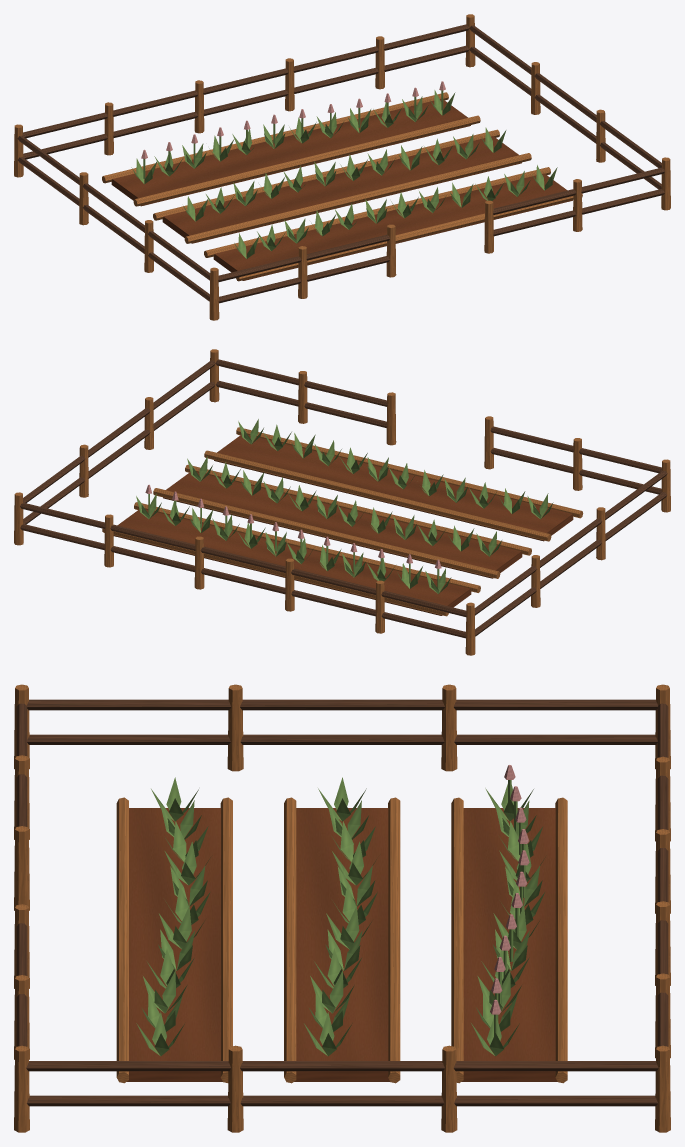
The model's file is herbs.glb.
The picture shows the model from 3 angles, top to bottom: view 1: azimuth 30°, elevation 25°; view 2: azimuth 150°, elevation 25°; view 3: azimuth 270°, elevation 25°; orthographic projection. The views are drawn at different scales.
Visible parts, largest first — view 1: herbs_F4; view 2: herbs_F4; view 3: herbs_F4.
Boxes of the visible parts, <box> form: herbs_F4: <box>14,14,670,320</box>; herbs_F4: <box>14,349,670,655</box>; herbs_F4: <box>14,684,670,1132</box>.
Bounding box in the file's own units: 12.22 × 1.27 × 9.22.
Materials: 1 (1 with a texture image).
